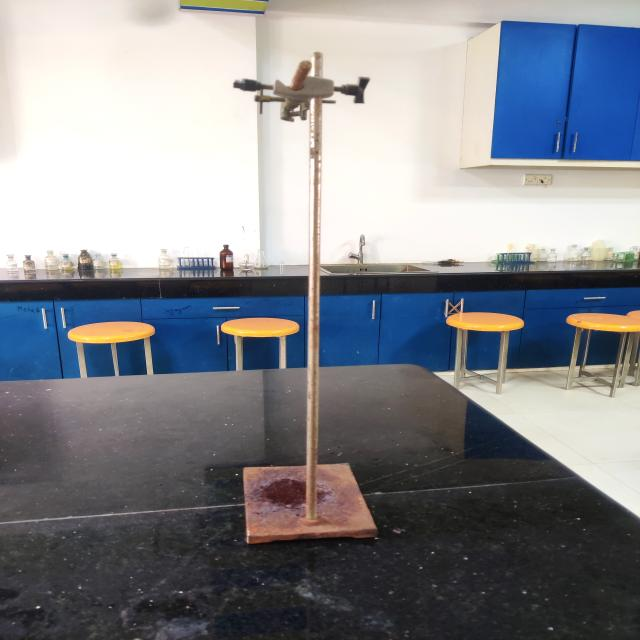Burette_Stands: (200, 39, 424, 572)
